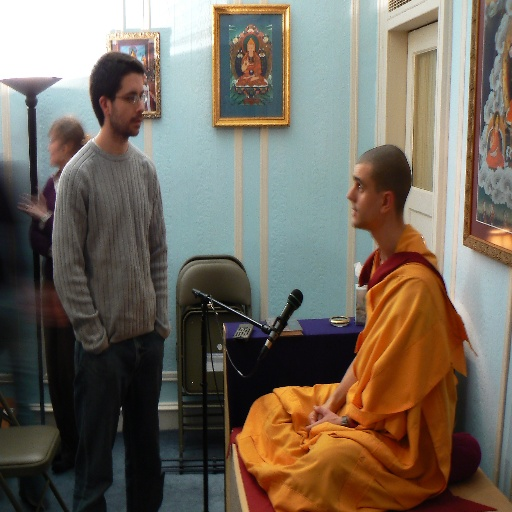hand: (300, 401, 350, 434), (14, 192, 48, 219), (310, 398, 341, 427)
